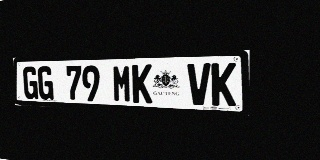7: (65, 65, 82, 101)
9: (82, 65, 100, 102)
G: (37, 66, 54, 100), (23, 66, 38, 99)
K: (211, 63, 236, 106), (132, 64, 152, 103)
M: (112, 65, 132, 103)
V: (187, 63, 211, 105)
